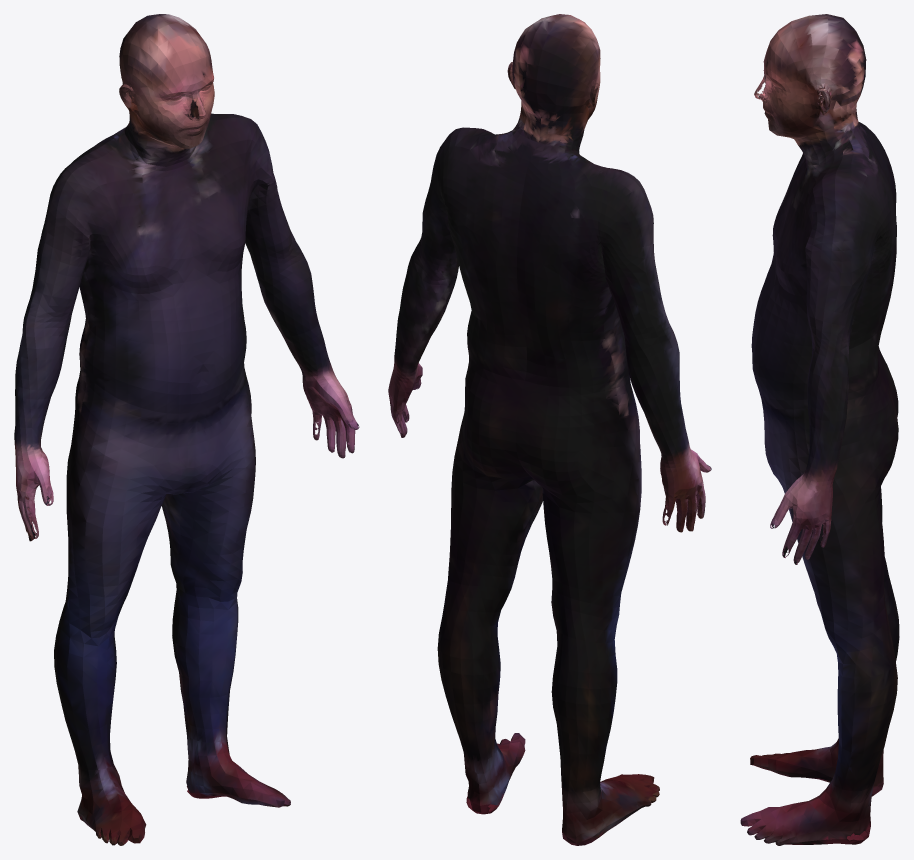
The model's file is Michal_LowPoly_StarMesh_Texture.obj.
3 views of the same model, side by side, from view 1: azimuth 30°, elevation 25°; view 2: azimuth 150°, elevation 25°; view 3: azimuth 270°, elevation 25° (orthographic).
Parts seen in each view (by area): view 1: Michal_LowPoly_StarMesh_No_Texture; view 2: Michal_LowPoly_StarMesh_No_Texture; view 3: Michal_LowPoly_StarMesh_No_Texture.
Part boxes in pixels (x1,y1,x2,y2): Michal_LowPoly_StarMesh_No_Texture: [14, 14, 359, 845]; Michal_LowPoly_StarMesh_No_Texture: [388, 14, 711, 845]; Michal_LowPoly_StarMesh_No_Texture: [740, 14, 899, 845].
Size of the model in its own units: 0.7286 by 1.74 by 0.3147.
Materials: 1 (1 with a texture image).
